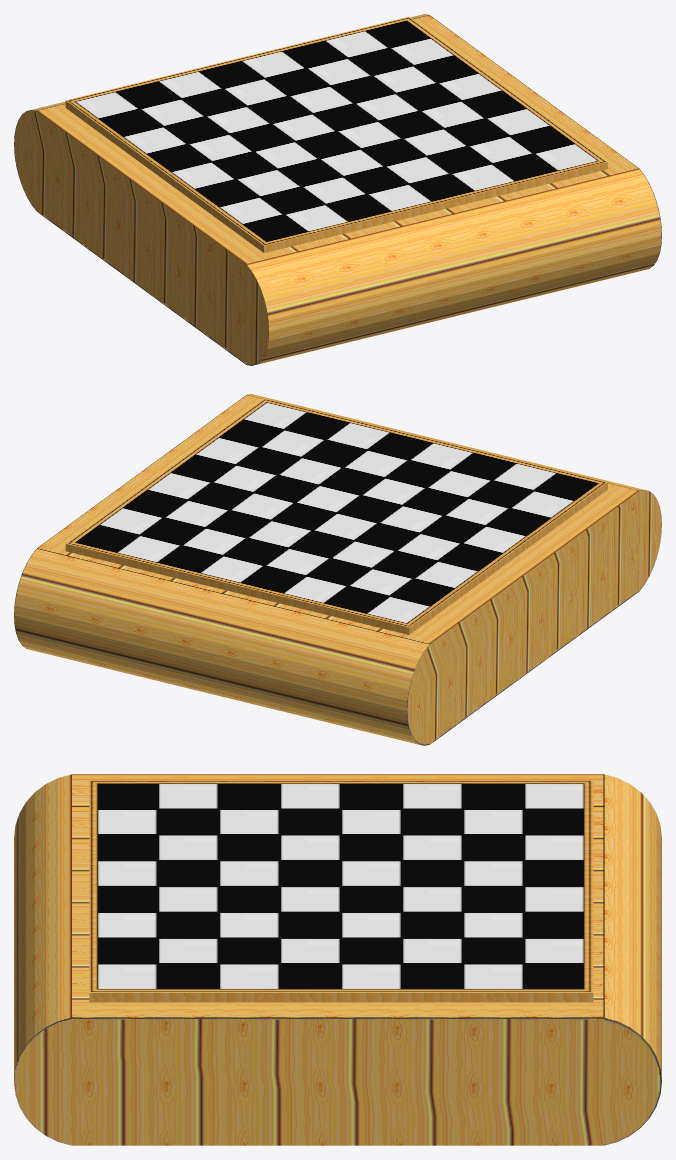
File: ChessBoardMK5.obj
3 views of the same model, one above another, from view 1: azimuth 30°, elevation 25°; view 2: azimuth 150°, elevation 25°; view 3: azimuth 270°, elevation 25° (orthographic). The views are drawn at different scales.
Visible parts, largest first — view 1: Cylinder, Cube; view 2: Cylinder, Cube; view 3: Cylinder, Cube.
Boxes of the visible parts, left/top/right/bottom form: Cylinder: left=14, top=14, right=661, bottom=365; Cube: left=65, top=16, right=607, bottom=351; Cylinder: left=14, top=394, right=661, bottom=745; Cube: left=65, top=398, right=607, bottom=733; Cylinder: left=14, top=774, right=661, bottom=1145; Cube: left=89, top=780, right=593, bottom=1019.
Size of the model in its own units: 8 by 2.11 by 9.
Materials: 2 (2 with a texture image).
